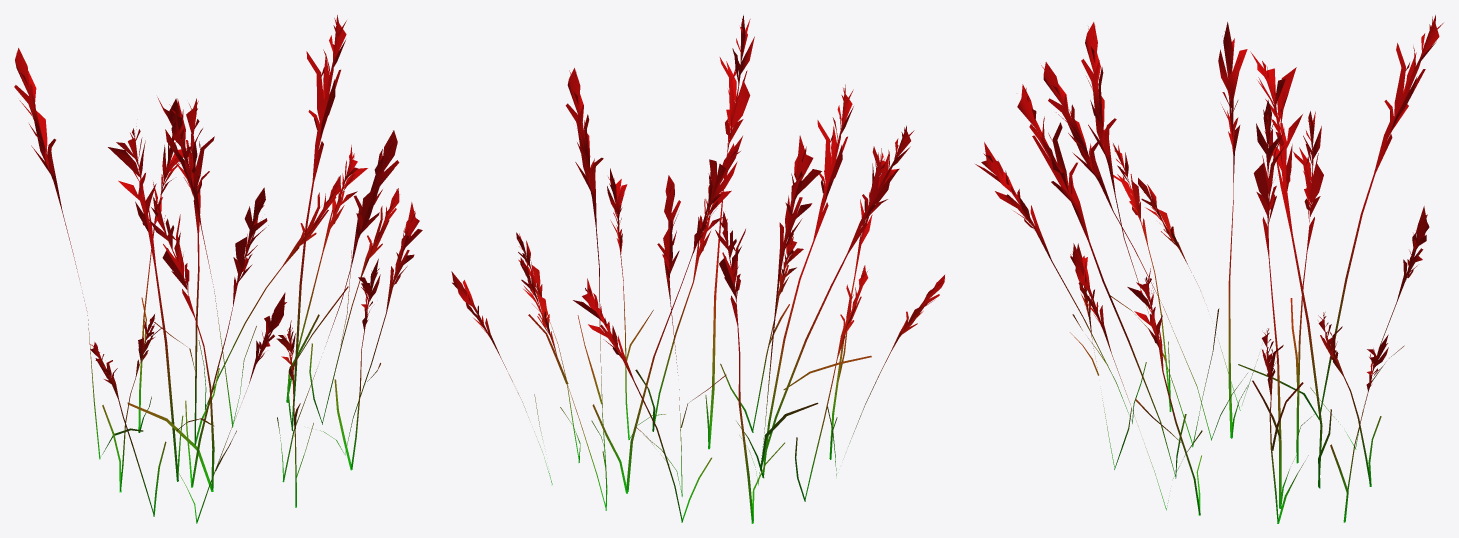
File: Tundra Grass_LOD3_Var18_wk2oaeyqx.fbx
3 views of the same model, side by side, from view 1: azimuth 30°, elevation 25°; view 2: azimuth 150°, elevation 25°; view 3: azimuth 270°, elevation 25° (orthographic). The views are drawn at different scales.
Visible parts, largest first — view 1: _6w5z_Var18_LOD3; view 2: _6w5z_Var18_LOD3; view 3: _6w5z_Var18_LOD3.
Part boxes in pixels (x1=…): _6w5z_Var18_LOD3: x1=14, y1=15, x2=422, y2=523; _6w5z_Var18_LOD3: x1=451, y1=15, x2=944, y2=523; _6w5z_Var18_LOD3: x1=975, y1=15, x2=1443, y2=523.
Bounding box in the file's own units: 67.11 × 66.13 × 65.59.
